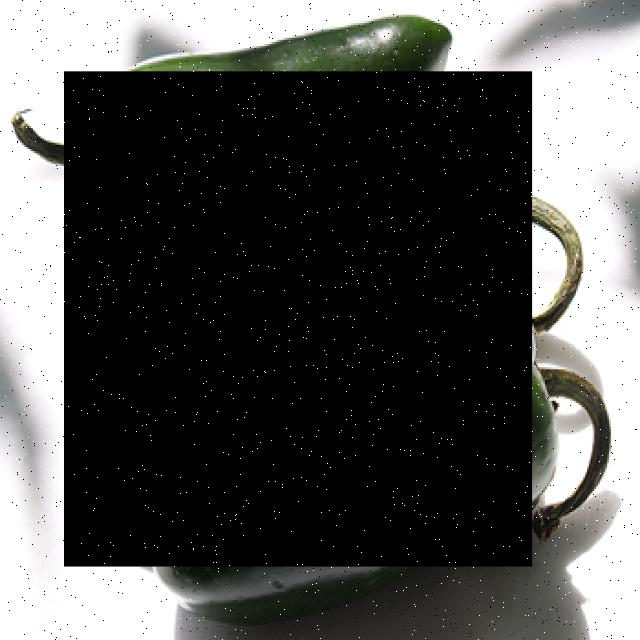Chili_Pepper: (66, 73, 534, 568)
